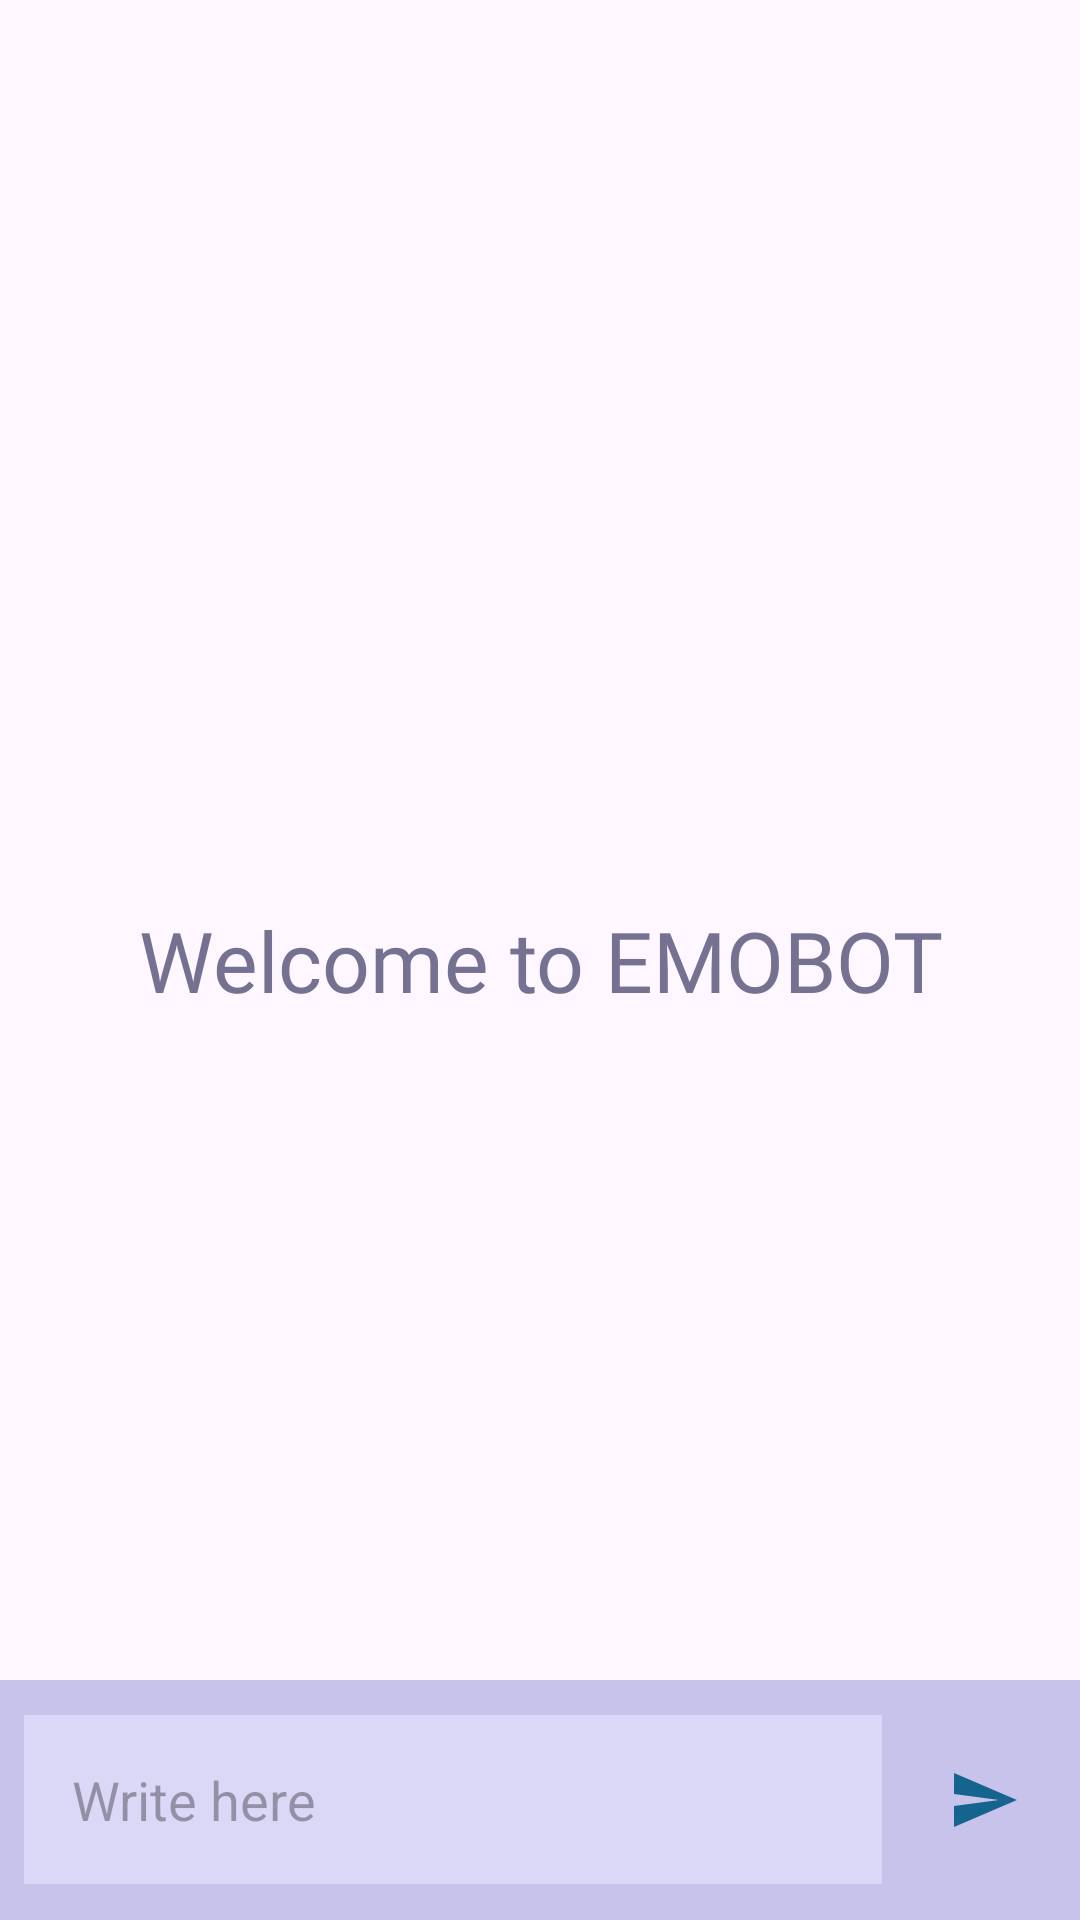

Icons on this 1080x1920 Android screen, each with its box as (x1, y1, x2, y2):
send: (954, 1773, 1017, 1827)
